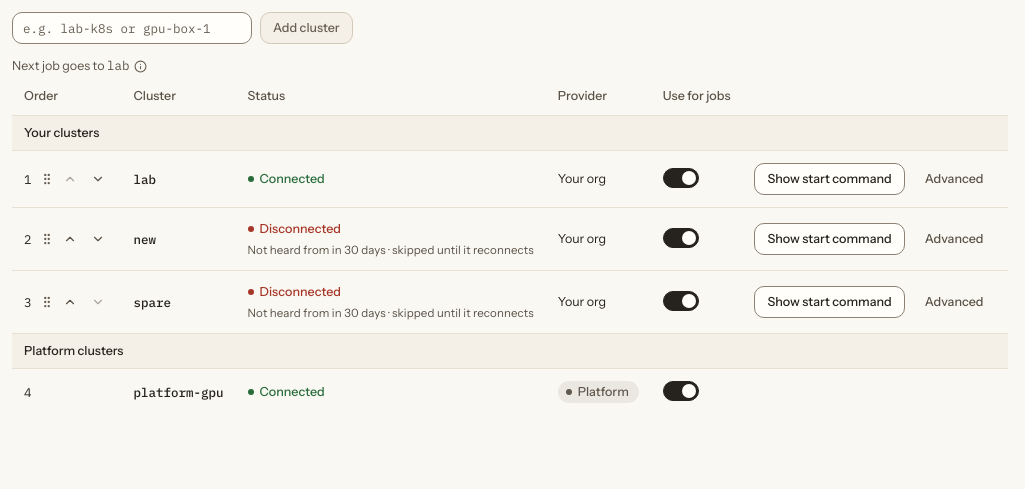
turning a cluster off for the org's jobs › is an owner's on every row, the platform's cluster included, and says what it means
The width and height of the screenshot is (1025, 489).
Expected: the switch named "Use lab for jobs" is shown, [663,168,699,188]
Click the switch named "Use platform-gpu for jobs".
click(681, 391)  # box [663,381,699,401]
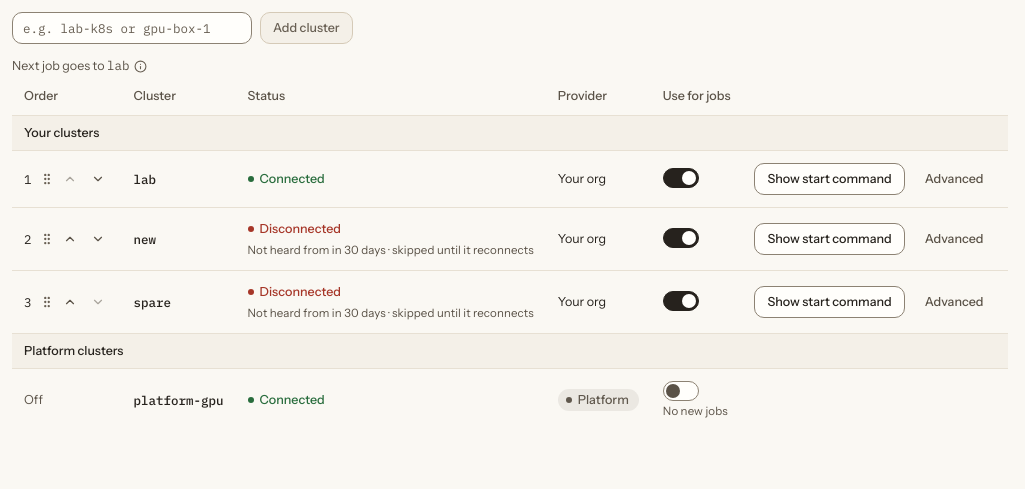
Now the text "No new jobs" is shown, box [663,403,730,419]
Click the switch named "Use platform-gpu for jobs".
click(681, 391)  # box [663,381,699,401]
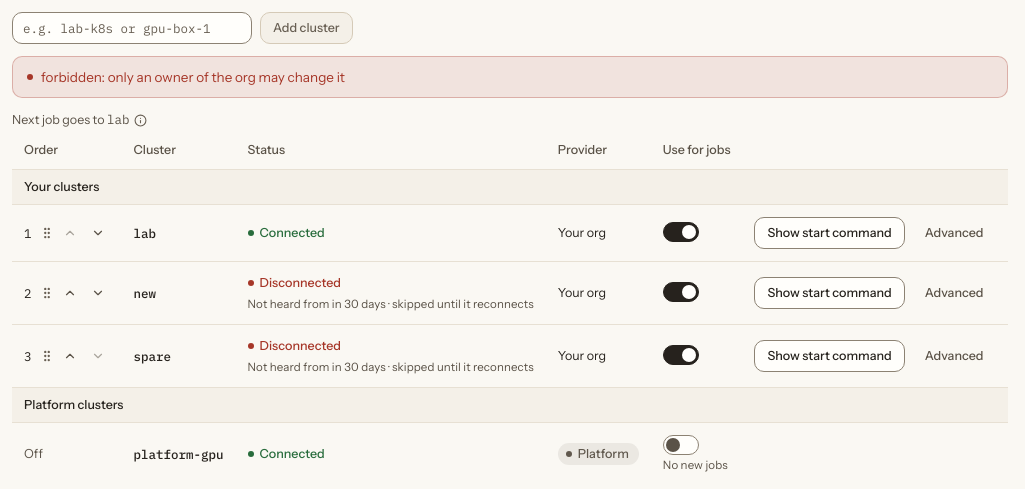
Now the text "forbidden: only an owner of the org may change it" is shown, box [41,67,345,87]
